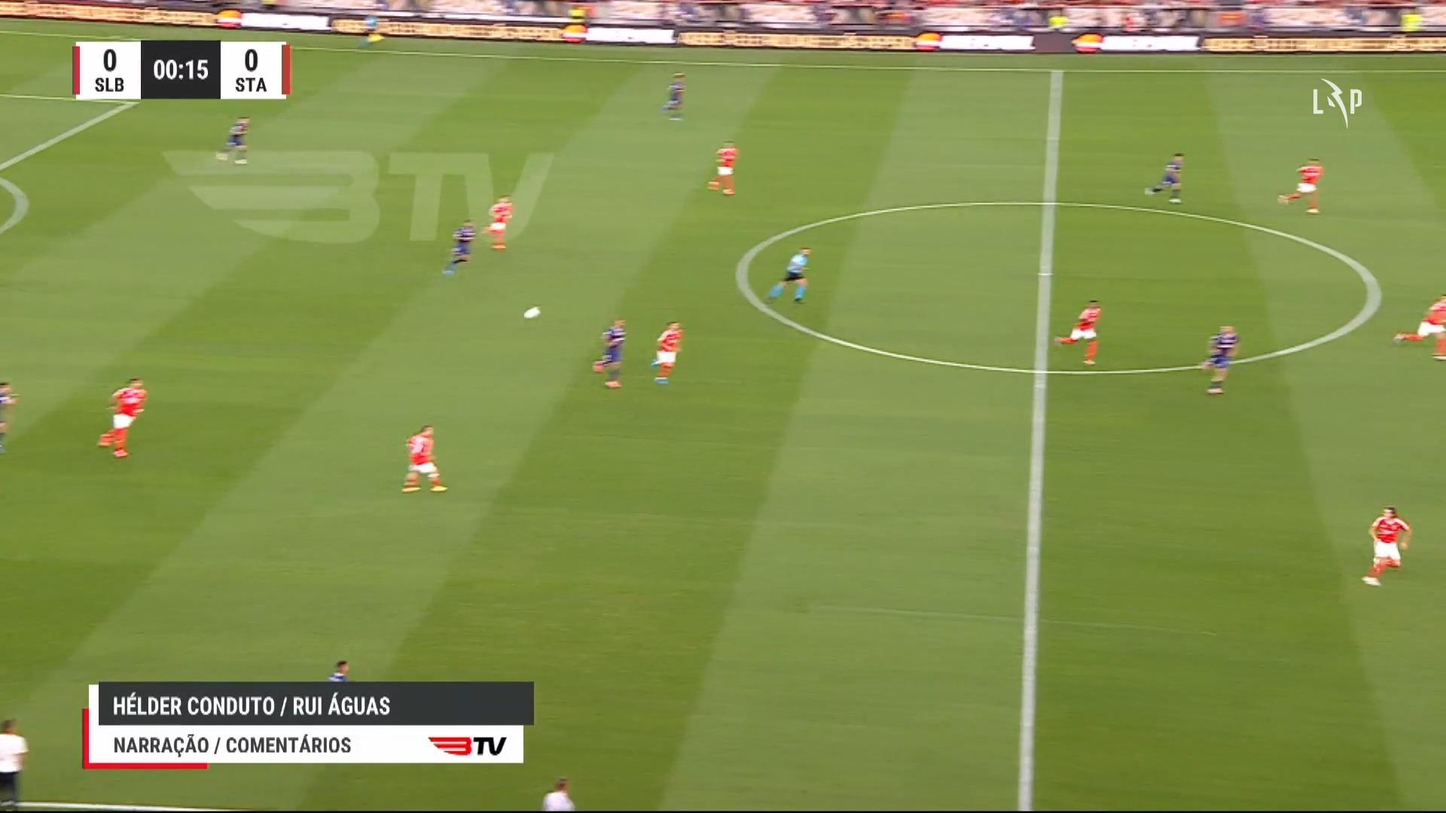ball: (523, 306, 540, 320)
player: (97, 376, 148, 458), (1360, 504, 1411, 586), (1393, 294, 1444, 361), (1054, 298, 1102, 365), (401, 424, 447, 492), (1200, 324, 1239, 394), (1277, 157, 1324, 213), (592, 318, 627, 388), (1144, 151, 1185, 203), (650, 320, 683, 384), (441, 218, 476, 276), (706, 139, 739, 196), (215, 115, 251, 165), (484, 194, 513, 250), (0, 380, 18, 453), (661, 72, 686, 120)
referee: (764, 246, 811, 304)
